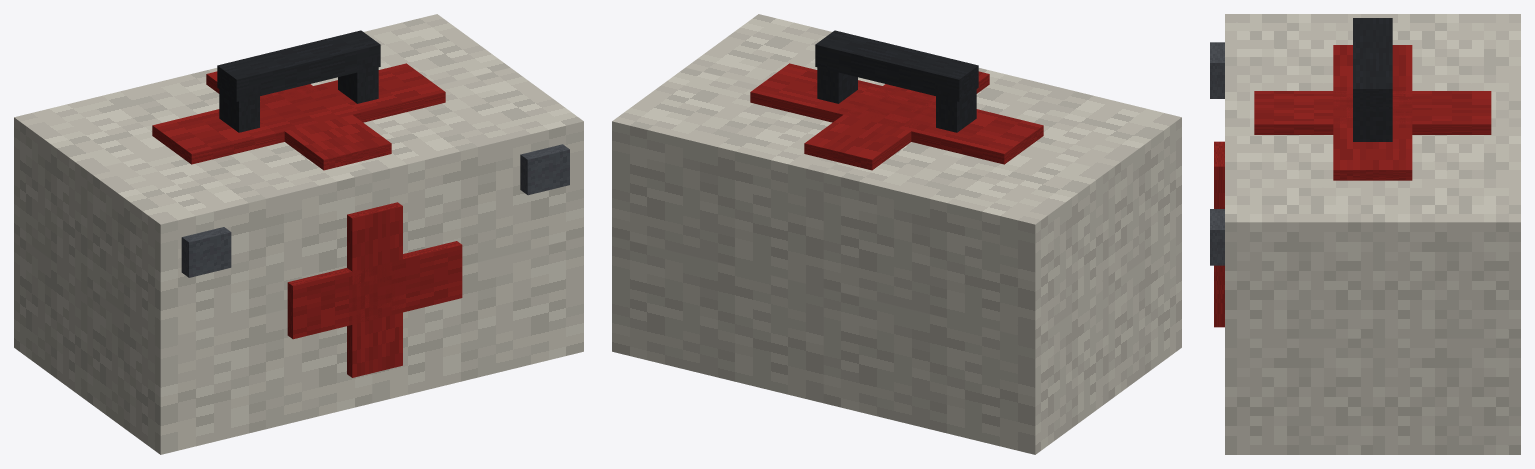
The model's file is pickup_medkit.glb.
The picture shows the model from 3 angles, left to right: view 1: azimuth 30°, elevation 25°; view 2: azimuth 150°, elevation 25°; view 3: azimuth 270°, elevation 25°; orthographic projection.
Visible parts, largest first — view 1: pickup_medkit; view 2: pickup_medkit; view 3: pickup_medkit.
Boxes of the visible parts, <box> form: pickup_medkit: <box>14,14,583,454</box>; pickup_medkit: <box>612,14,1181,454</box>; pickup_medkit: <box>1210,14,1520,454</box>.
Size of the model in its own units: 0.5 by 0.3325 by 0.315.
1 material, 1 textured.
